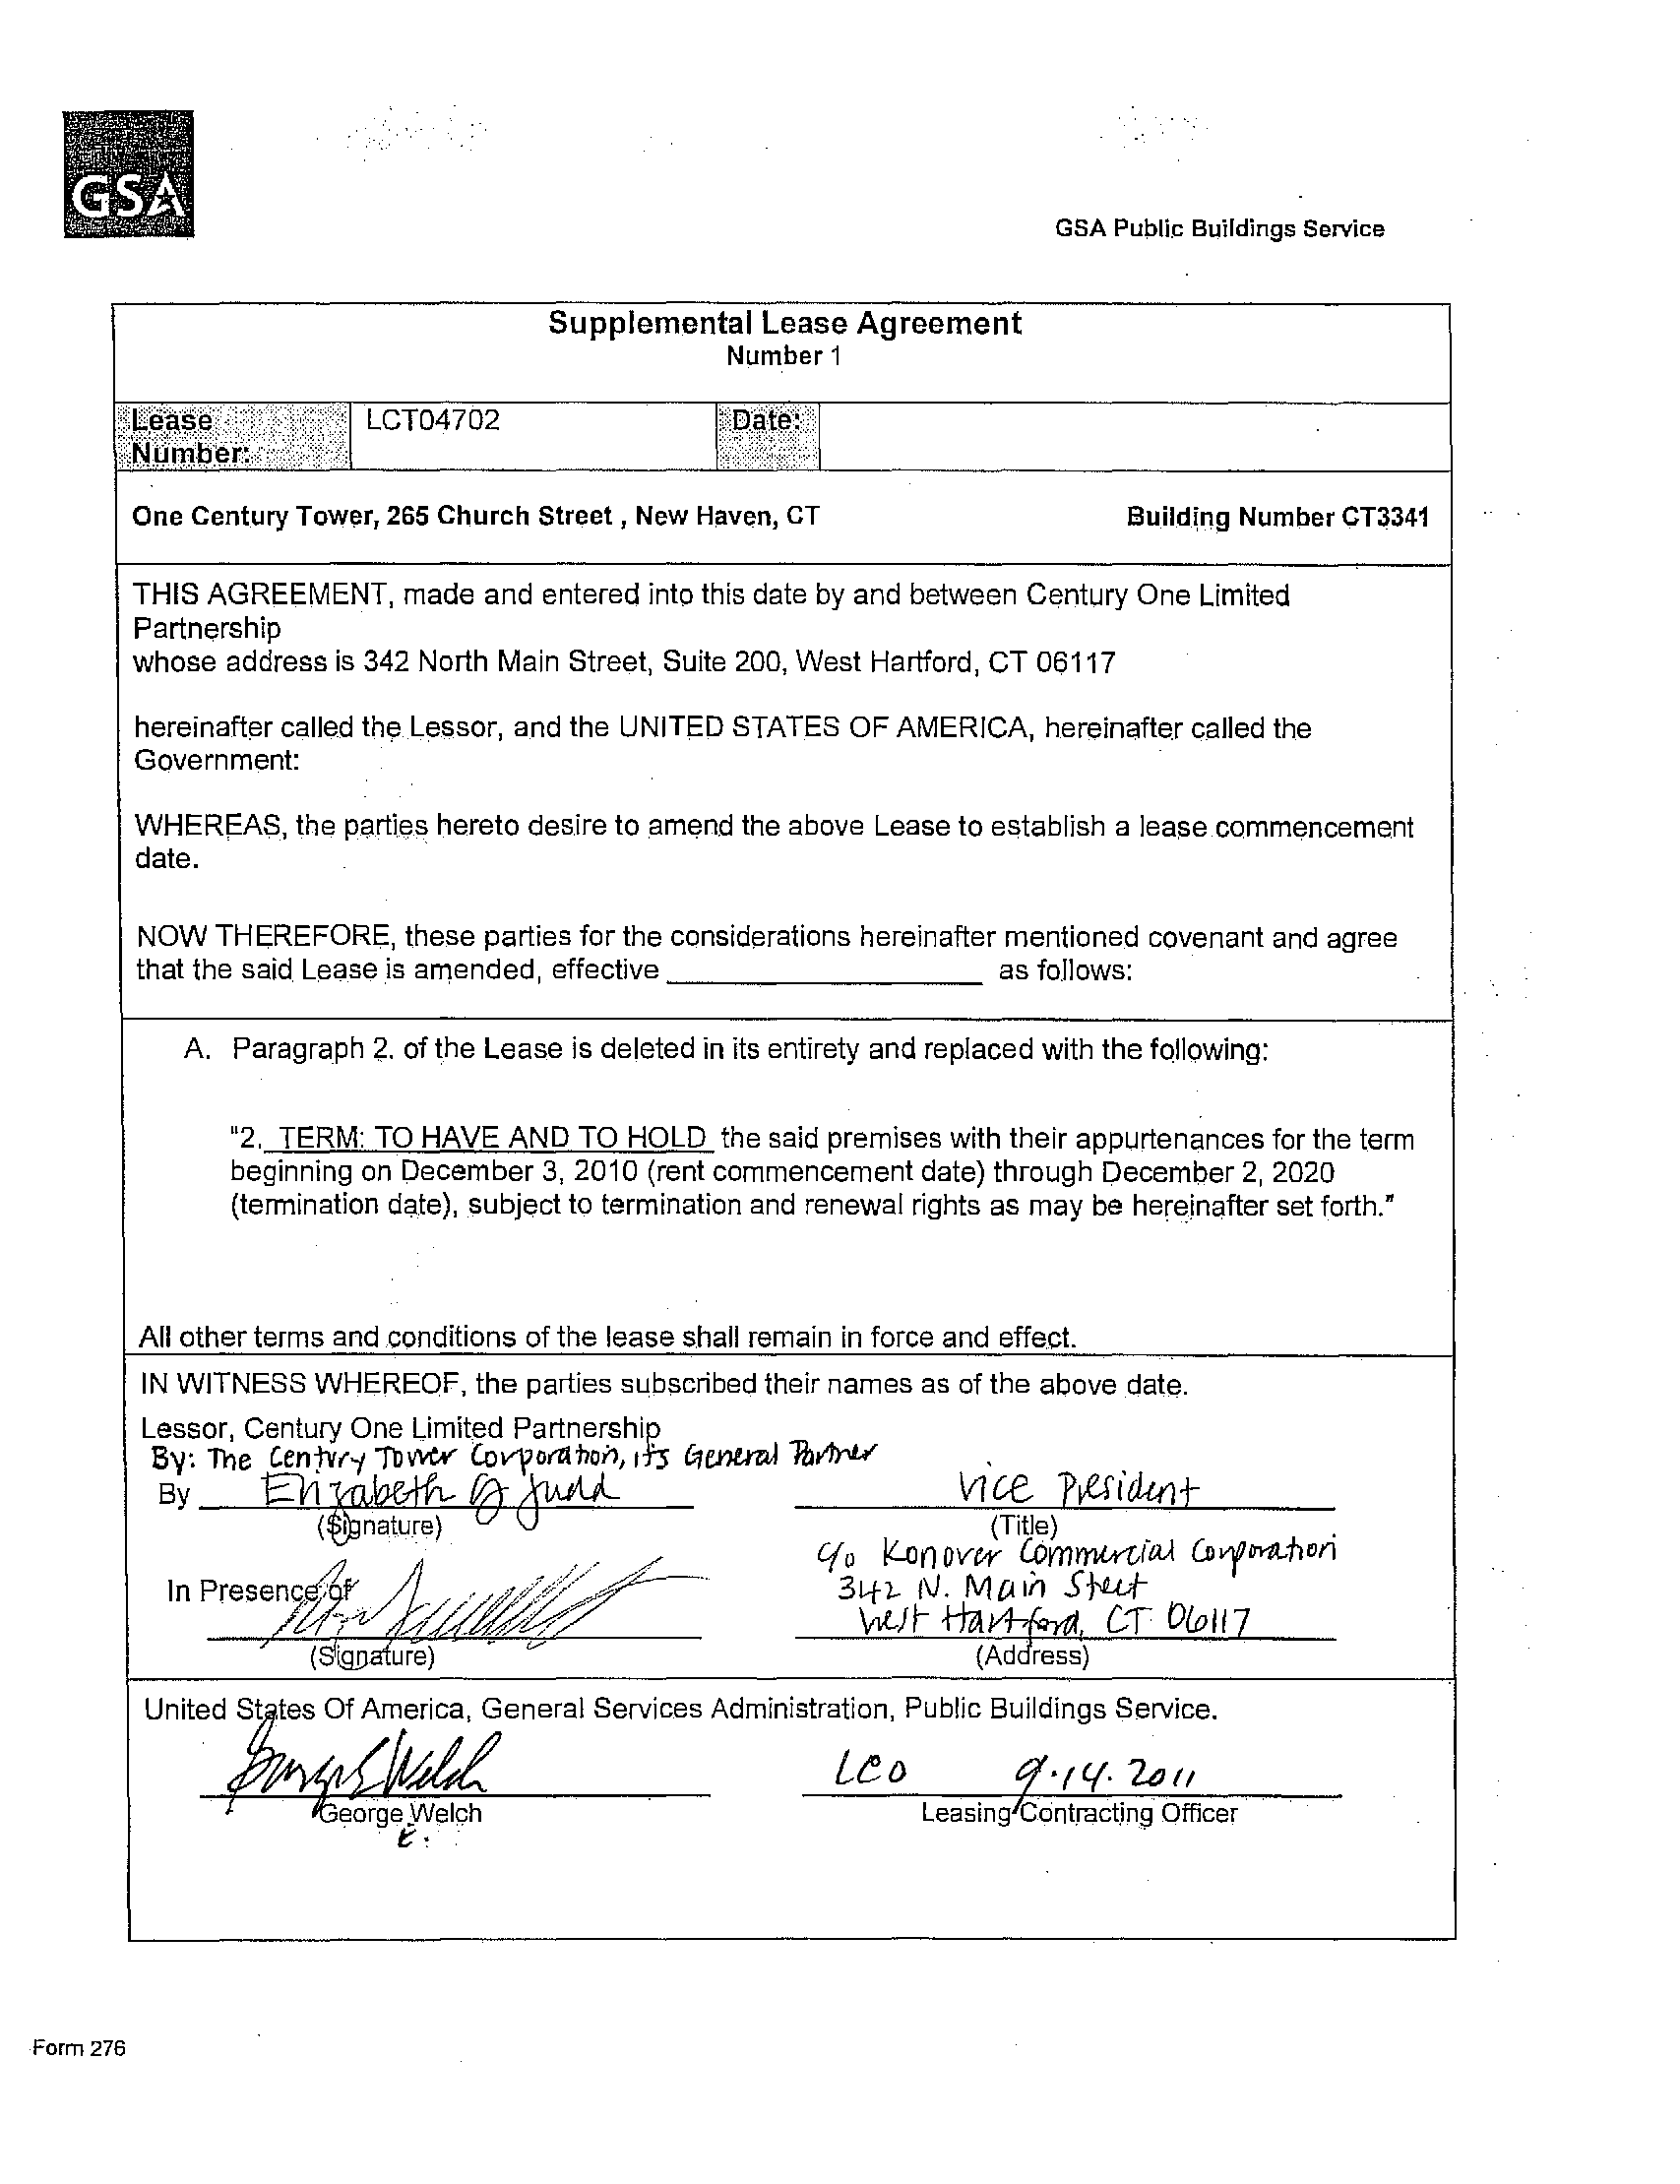handwritten: (799, 1526, 1366, 1642), (277, 1545, 702, 1644), (803, 1724, 1258, 1801), (185, 1717, 538, 1791), (249, 1461, 632, 1517), (946, 1443, 1216, 1507)
